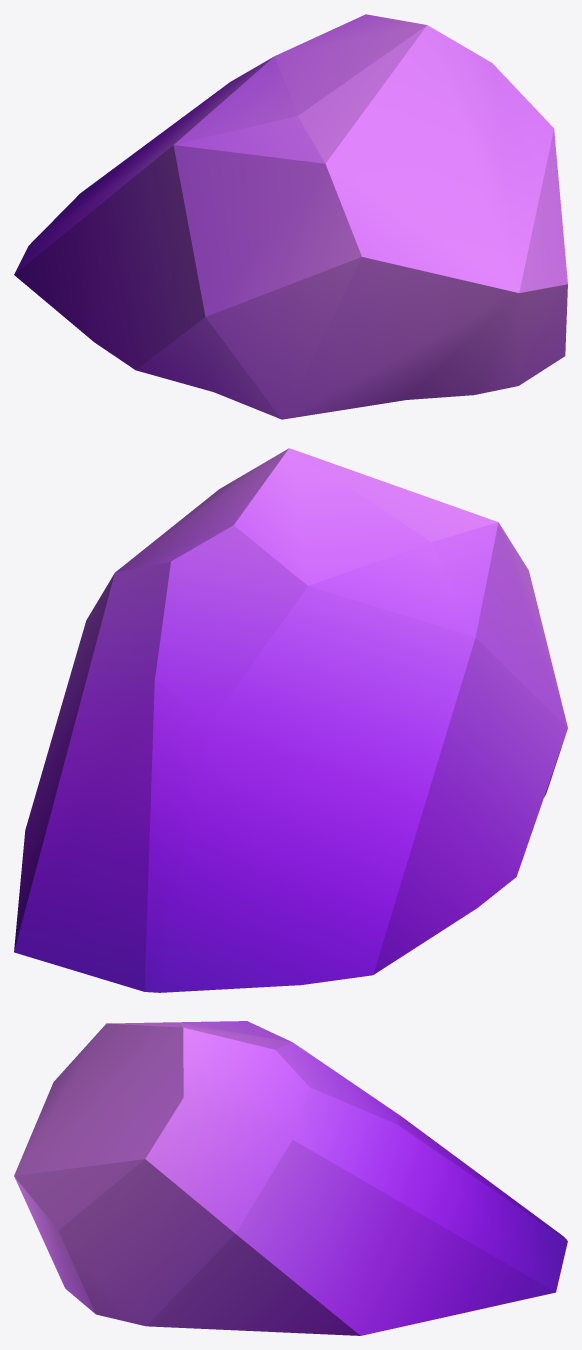
The model's file is crystal_3_shard.fbx.
The picture shows the model from 3 angles, top to bottom: view 1: azimuth 30°, elevation 25°; view 2: azimuth 150°, elevation 25°; view 3: azimuth 270°, elevation 25°; orthographic projection. The views are drawn at different scales.
Visible parts, largest first — view 1: crystal_3_shard; view 2: crystal_3_shard; view 3: crystal_3_shard.
Boxes of the visible parts, box(x1,y1,x2,y2) form: crystal_3_shard: box(14, 14, 567, 419); crystal_3_shard: box(14, 448, 567, 992); crystal_3_shard: box(14, 1021, 567, 1335).
Size of the model in its own units: 0.3074 by 0.222 by 0.4397.
